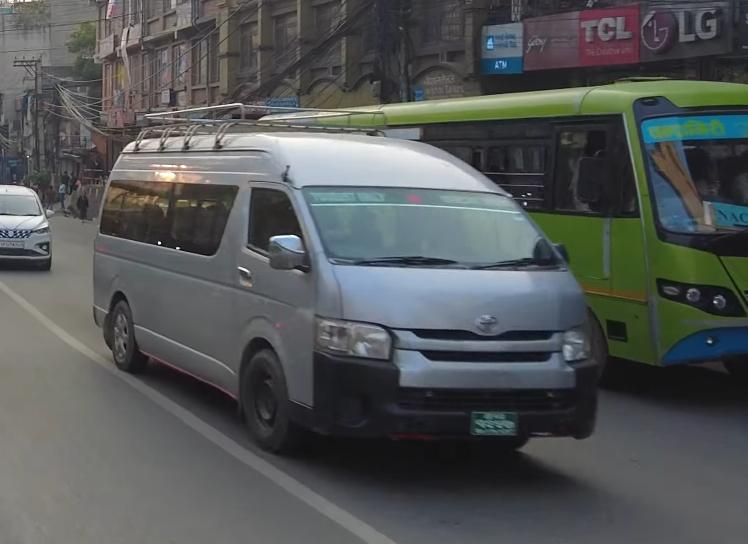car: (0, 182, 55, 276)
micro_bus: (85, 119, 612, 454)
